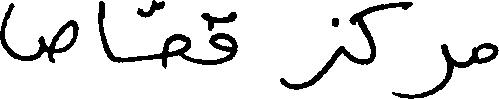X: (356, 0, 410, 98), (0, 0, 76, 67), (281, 13, 343, 94), (412, 0, 451, 98), (163, 0, 189, 73), (209, 7, 236, 69), (98, 0, 113, 66), (472, 38, 498, 68)
